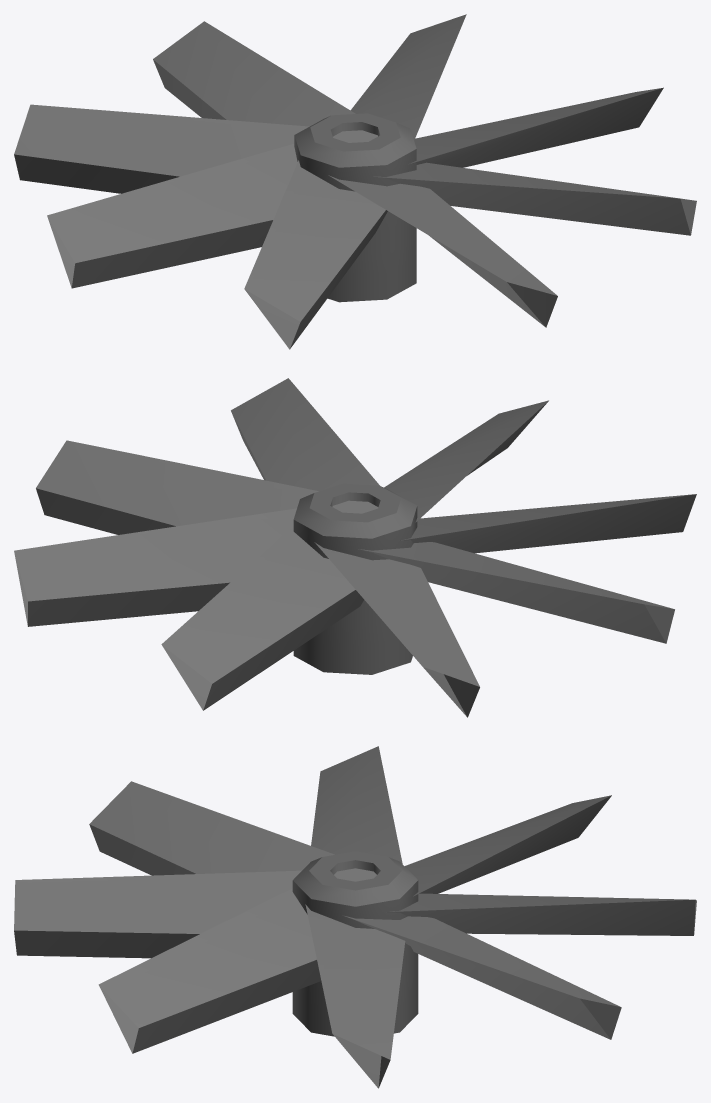
File: TFan_A.fbx
3 renders of one model, top to bottom at view 1: azimuth 30°, elevation 25°; view 2: azimuth 150°, elevation 25°; view 3: azimuth 270°, elevation 25°, orthographic. The views are drawn at different scales.
Parts seen in each view (by area): view 1: TFan_A; view 2: TFan_A; view 3: TFan_A.
Part boxes in pixels (box(x1,y1,x2,y2)): TFan_A: box(14, 14, 696, 349); TFan_A: box(14, 378, 696, 717); TFan_A: box(14, 746, 696, 1088).
Bounding box in the file's own units: 86.98 × 20.08 × 86.98.
